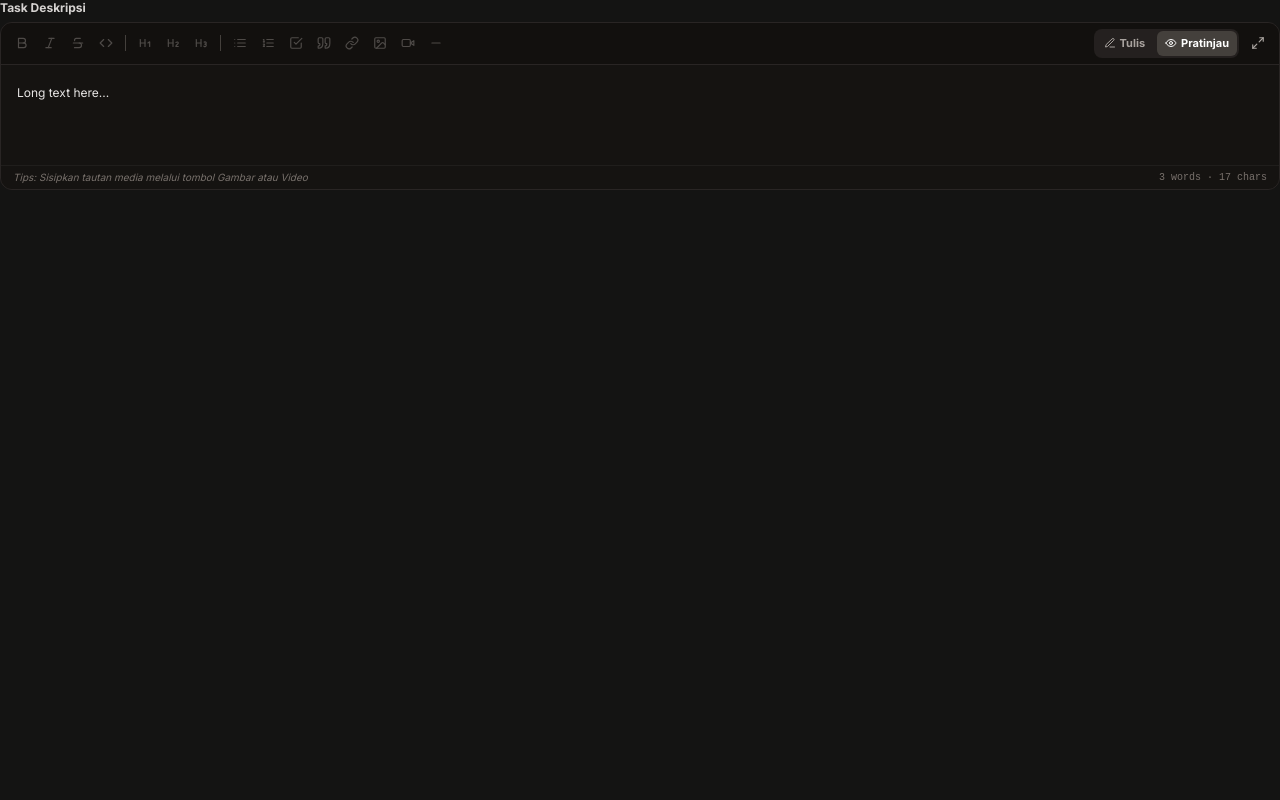
Test: RichTextEditor Molecule › toggles fullscreen mode on and off
Click the button titled "Buka Layar Penuh / Mode Fokus" at (1258, 43), box [1245,30,1271,56]
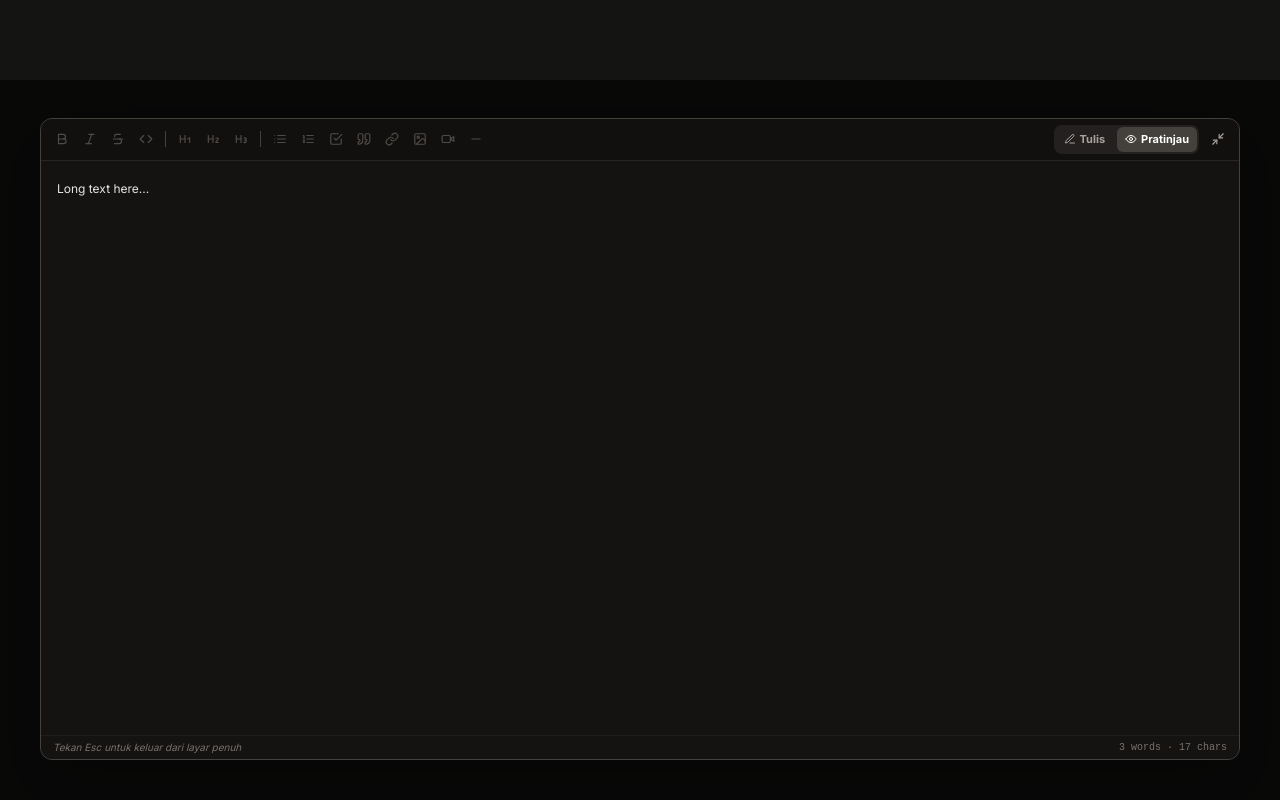
Now the button titled "Keluar dari Layar Penuh (Esc)" is shown
Now the text "Tekan Esc untuk keluar dari layar penuh" is shown, box [53,740,241,755]
Click the button titled "Keluar dari Layar Penuh (Esc)" at (1218, 139), box [1205,126,1231,152]
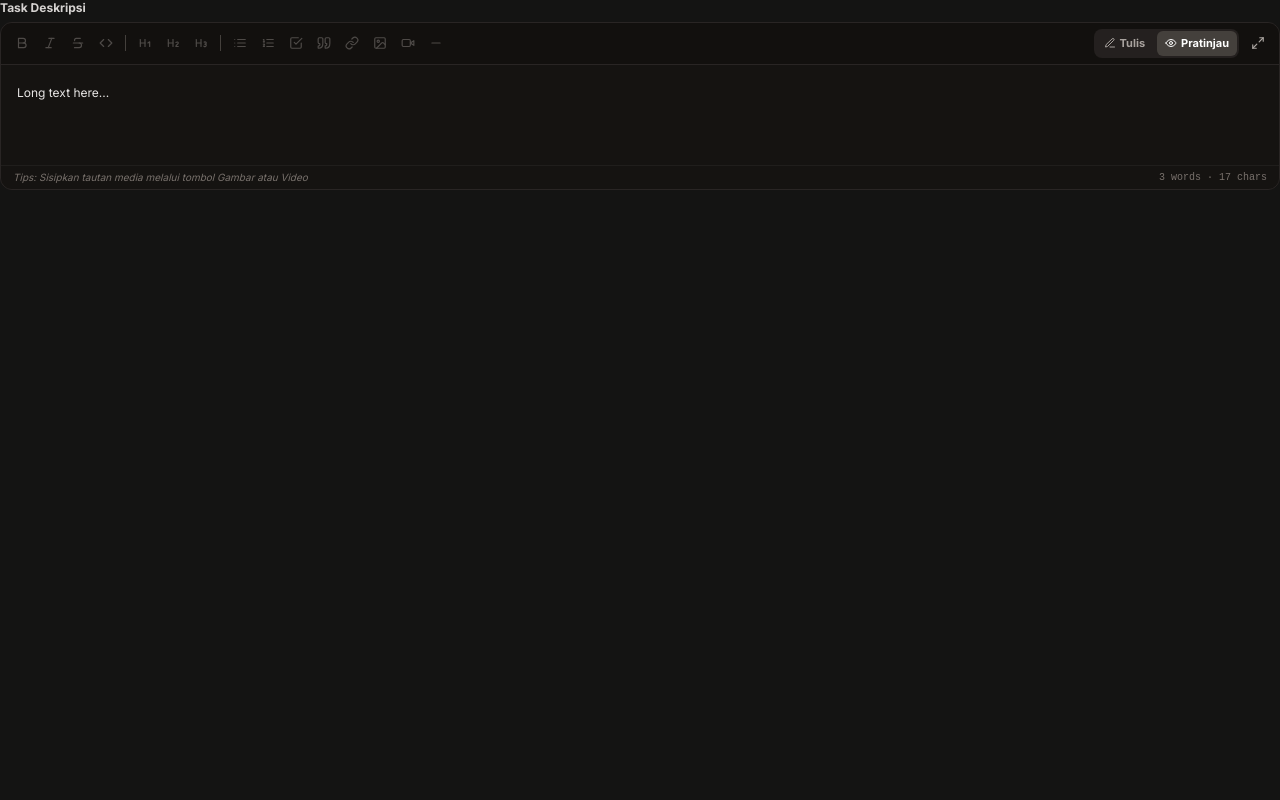
Now the button titled "Buka Layar Penuh / Mode Fokus" is shown, box [1245,30,1271,56]
